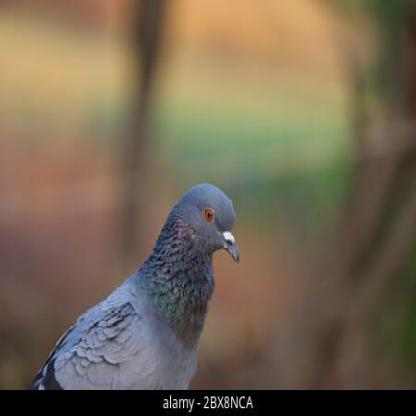Rock Pigeon: (33, 180, 242, 391)
